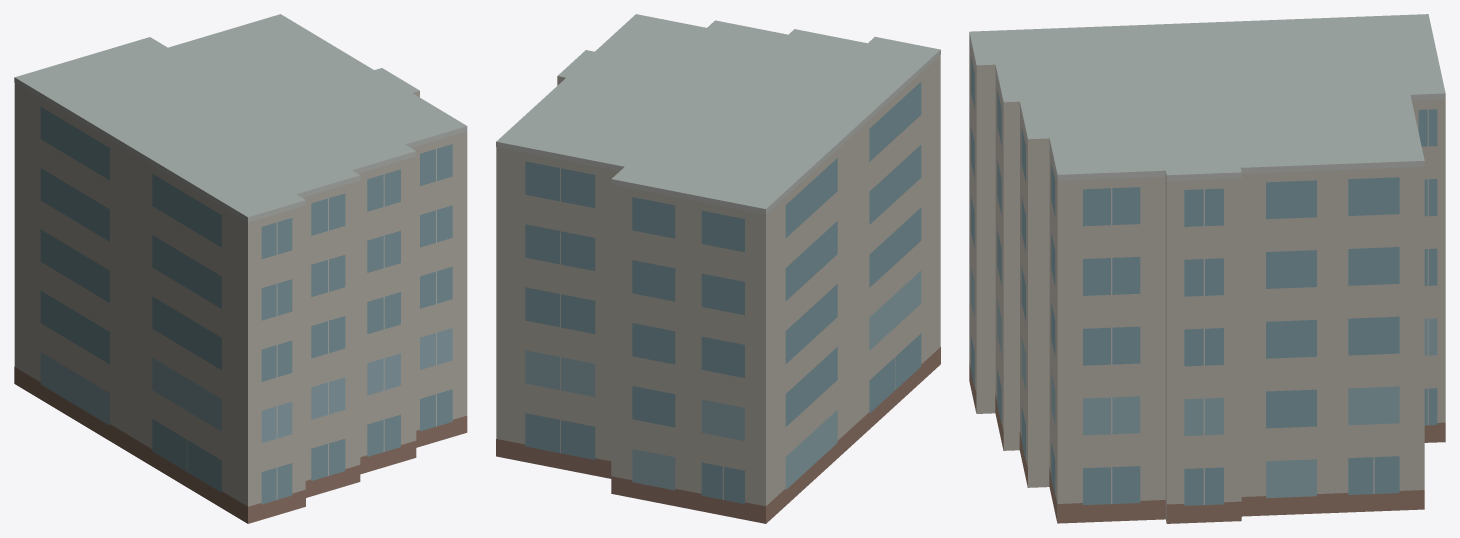
The model's file is survey-upis-32757180.glb.
The picture shows the model from 3 angles, left to right: view 1: azimuth 30°, elevation 25°; view 2: azimuth 150°, elevation 25°; view 3: azimuth 270°, elevation 25°; orthographic projection. The views are drawn at different scales.
Parts seen in each view (by area): view 1: survey-upis-32757180.tmp; view 2: survey-upis-32757180.tmp; view 3: survey-upis-32757180.tmp.
Boxes of the visible parts, bbox=[...] form: survey-upis-32757180.tmp: bbox=[14, 14, 467, 523]; survey-upis-32757180.tmp: bbox=[496, 14, 940, 523]; survey-upis-32757180.tmp: bbox=[969, 14, 1445, 523].
Size of the model in its own units: 14.09 by 14.2 by 17.59.
